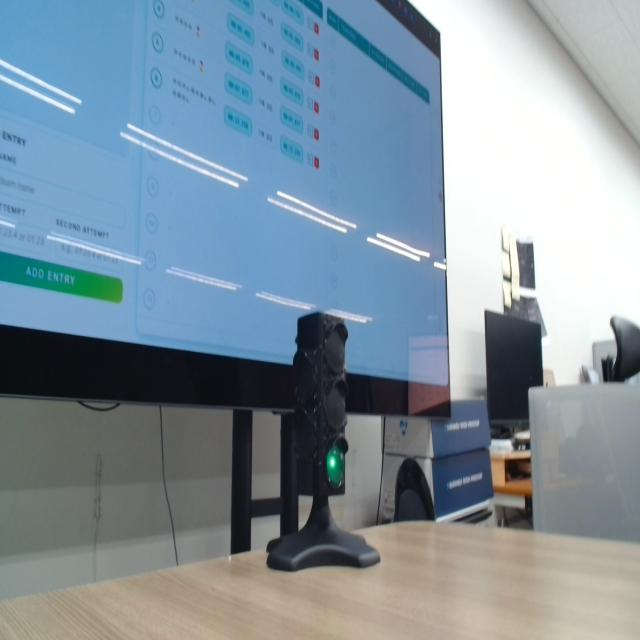green_light: (327, 446, 344, 487)
